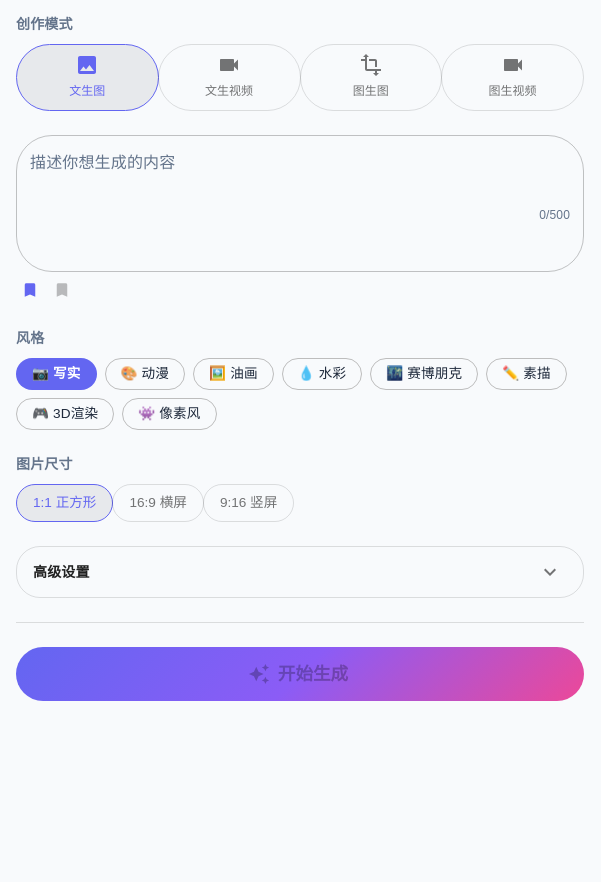
Test: CreationPanel › 切换模式为图生图时应显示图片上传区域
Click the button "图生图". click: click(371, 78)
box: x1=300 y1=44 x2=442 y2=111
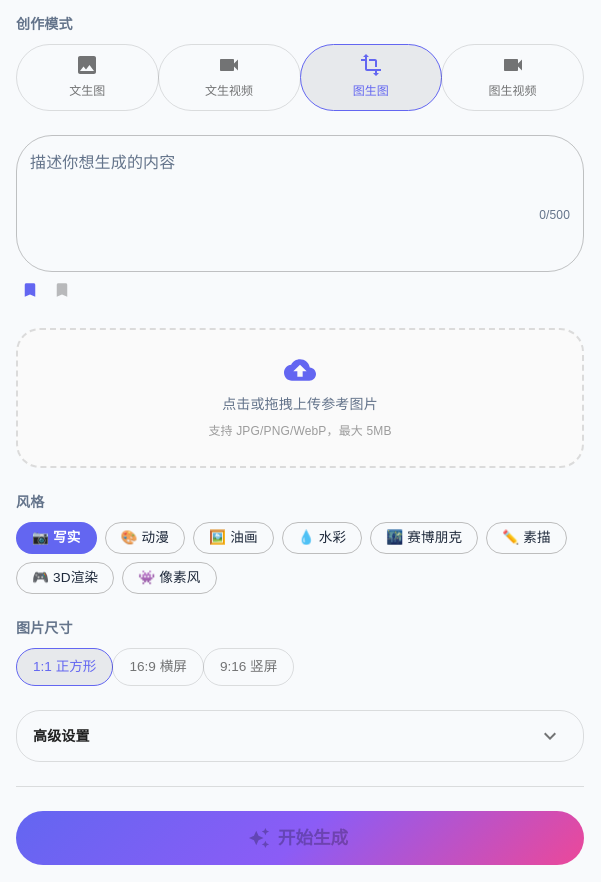
Check: the text "点击或拖拽上传参考图片" is shown, box x1=222 y1=394 x2=378 y2=414
